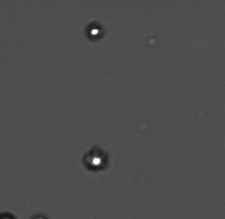Living Cell: (84, 147, 108, 171), (86, 22, 103, 41)
